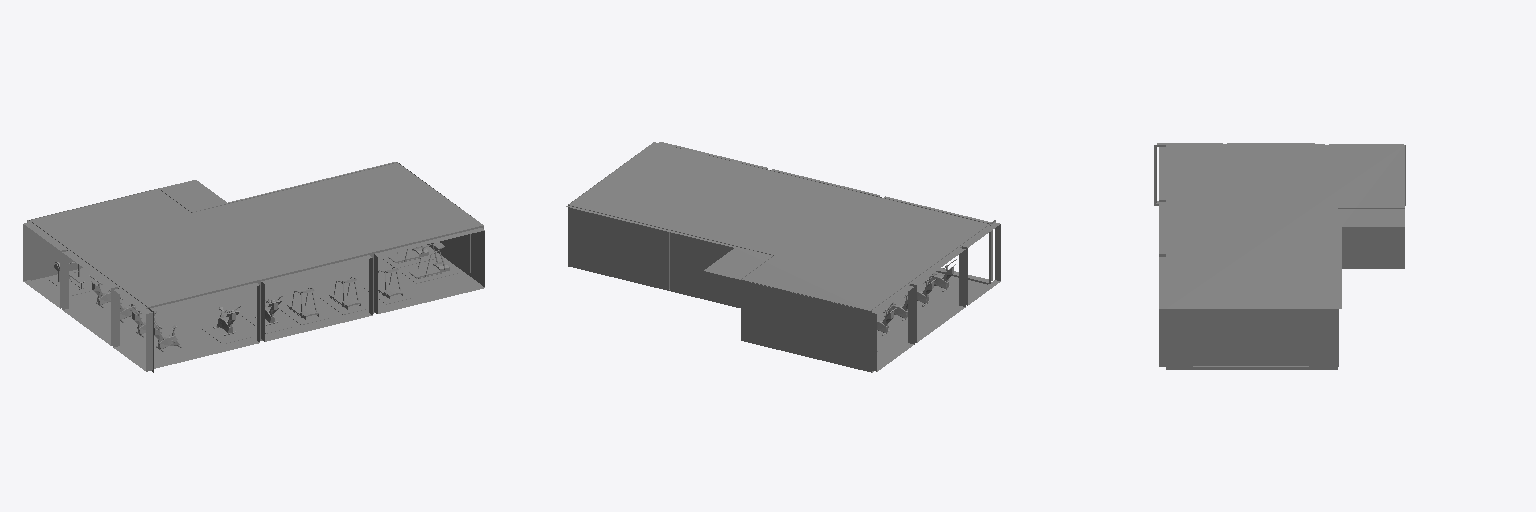
Rendered from gym.obj.
3 views of the same model, side by side, from view 1: azimuth 30°, elevation 25°; view 2: azimuth 150°, elevation 25°; view 3: azimuth 270°, elevation 25° (orthographic).
Parts seen in each view (by area): view 1: Box026; view 2: Box026; view 3: Box026.
Boxes of the visible parts, <box> form: Box026: <box>23,162,484,372</box>; Box026: <box>566,142,1000,372</box>; Box026: <box>1154,143,1405,369</box>.
Size of the model in its own units: 701 by 120 by 445.